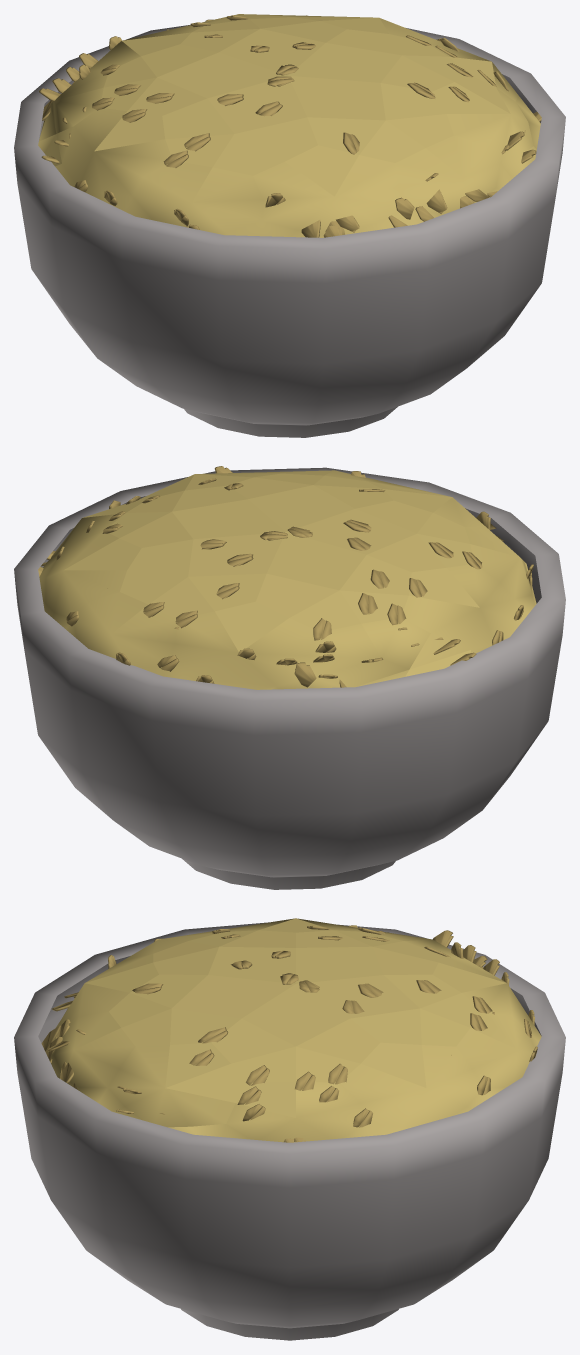
The model's file is porridge_joined.fbx.
3 views of the same model, one above another, from view 1: azimuth 30°, elevation 25°; view 2: azimuth 150°, elevation 25°; view 3: azimuth 270°, elevation 25° (orthographic).
Parts seen in each view (by area): view 1: Plane; view 2: Plane; view 3: Plane.
Part boxes in pixels (<box>): Plane: <box>14,14,565,437</box>; Plane: <box>14,466,565,889</box>; Plane: <box>14,918,565,1340</box>.
Bounding box in the file's own units: 327 × 202 × 327.
